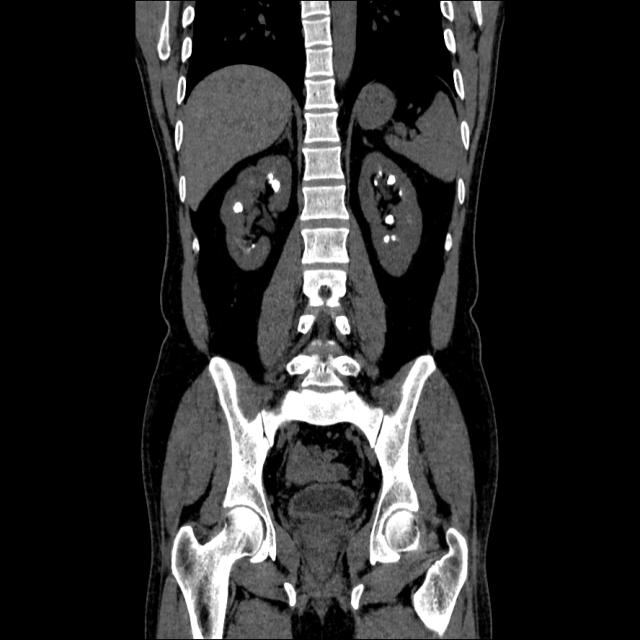kidneystone: (269, 173, 280, 192), (232, 201, 244, 213), (382, 235, 397, 244), (384, 215, 395, 226), (386, 174, 395, 184)
